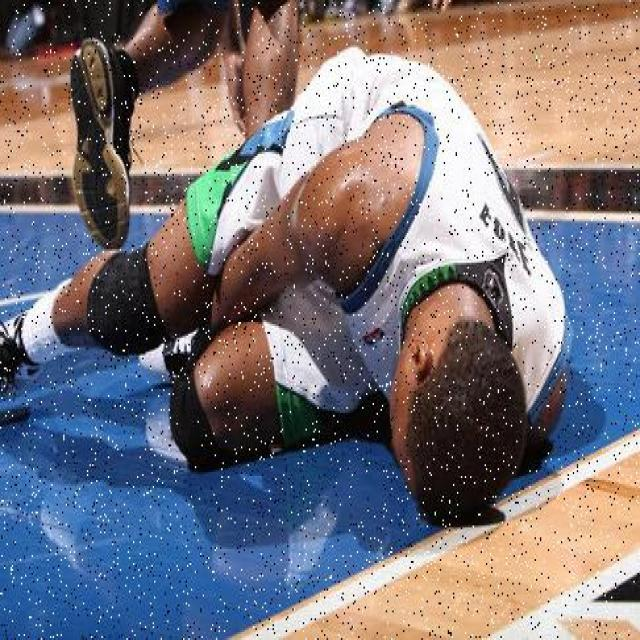fall: (4, 45, 572, 528)
